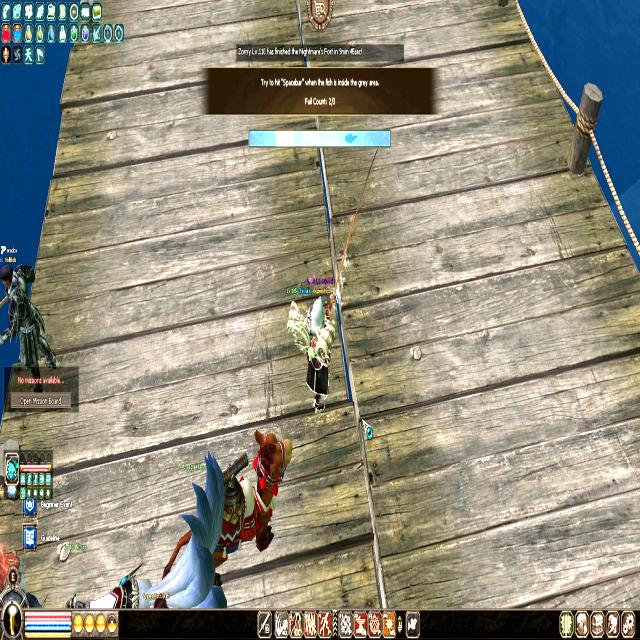fishes: (344, 131, 358, 145)
